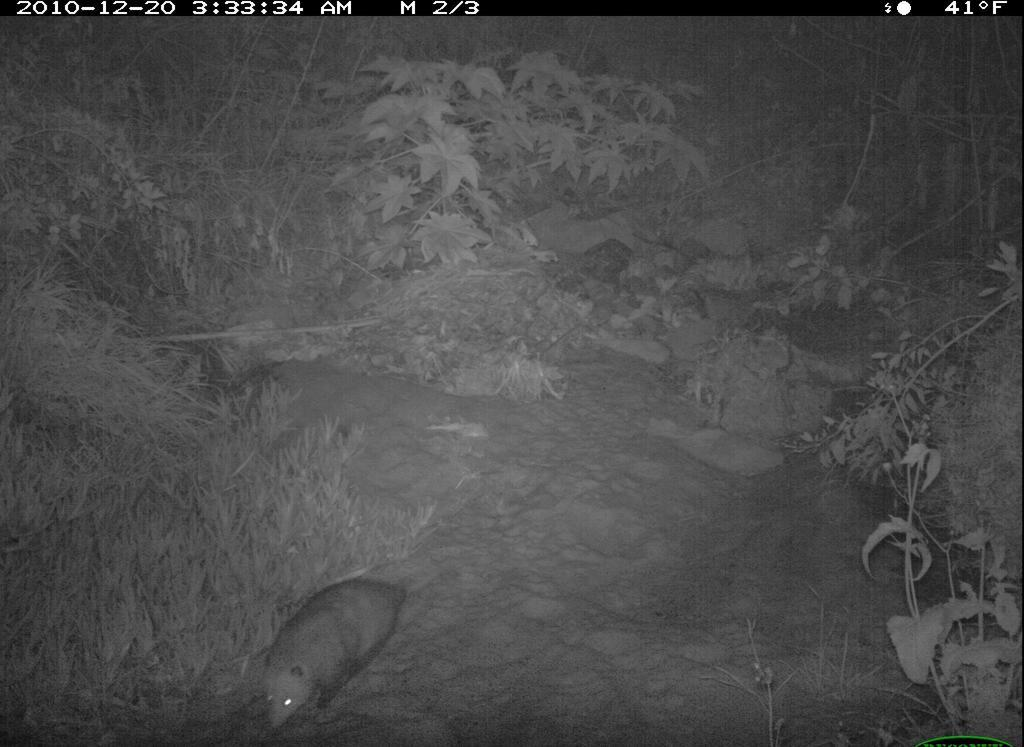opossum: (253, 556, 441, 747)
